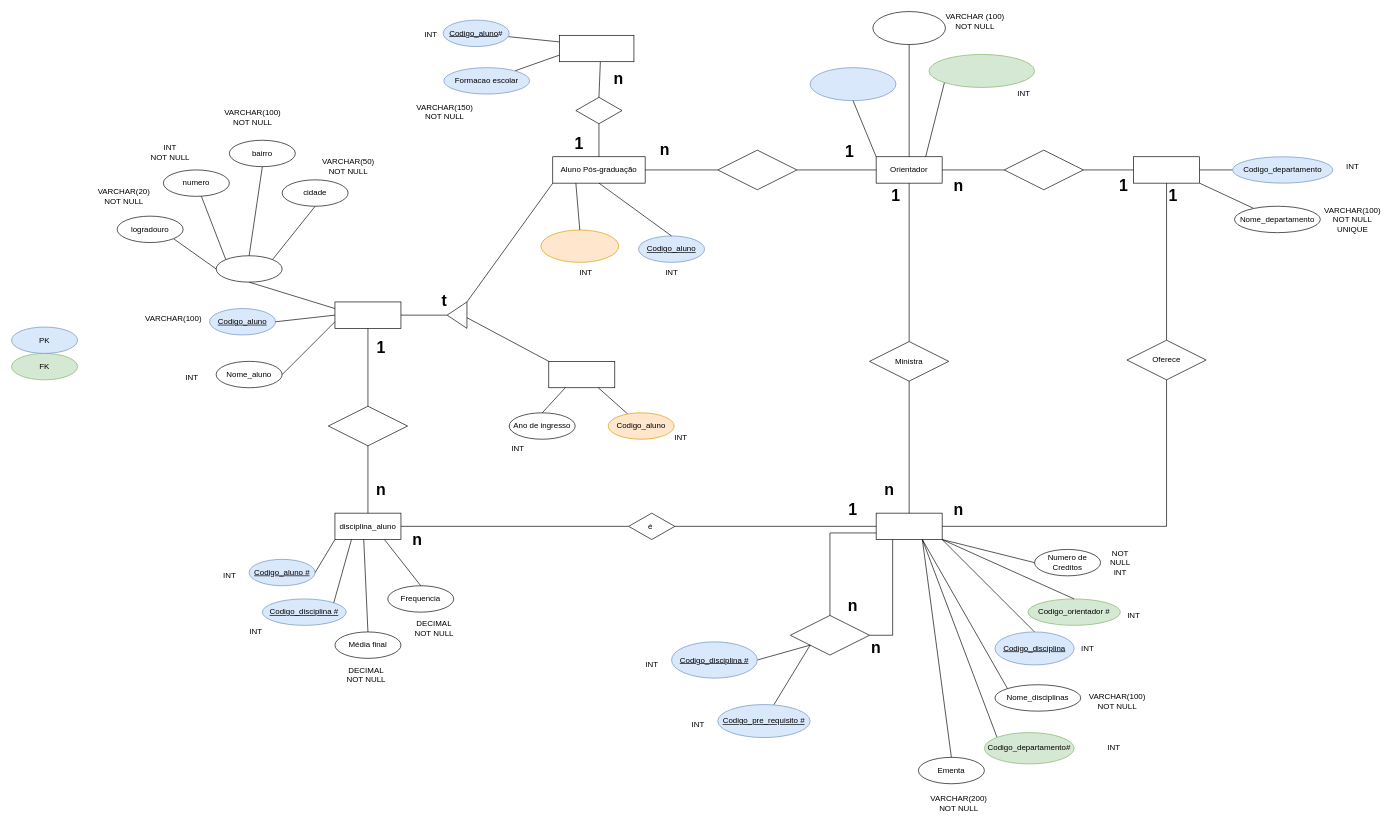
Image size: 1393x828. Some labels were removed from this diagram. Each missing label, with the box of its shape:
Aluno: (334, 301, 401, 328)
Aluno Graduação: (548, 361, 615, 388)
Codigo_departamento #: (928, 54, 1035, 87)
Codigo_orientador: (809, 67, 896, 101)
Cursa: (328, 406, 408, 446)
Código_ orientador: (540, 229, 619, 262)
Departamento: (1133, 156, 1200, 183)
Disciplina: (875, 512, 942, 540)
Endereço: (215, 255, 282, 282)
Formação Escolar: (559, 35, 634, 62)
Nome_orientador: (872, 11, 945, 45)
orienta: (717, 149, 797, 190)
possui: (575, 97, 622, 124)
Pre_requisito: (790, 615, 870, 655)
Trabalha: (1004, 149, 1083, 190)
